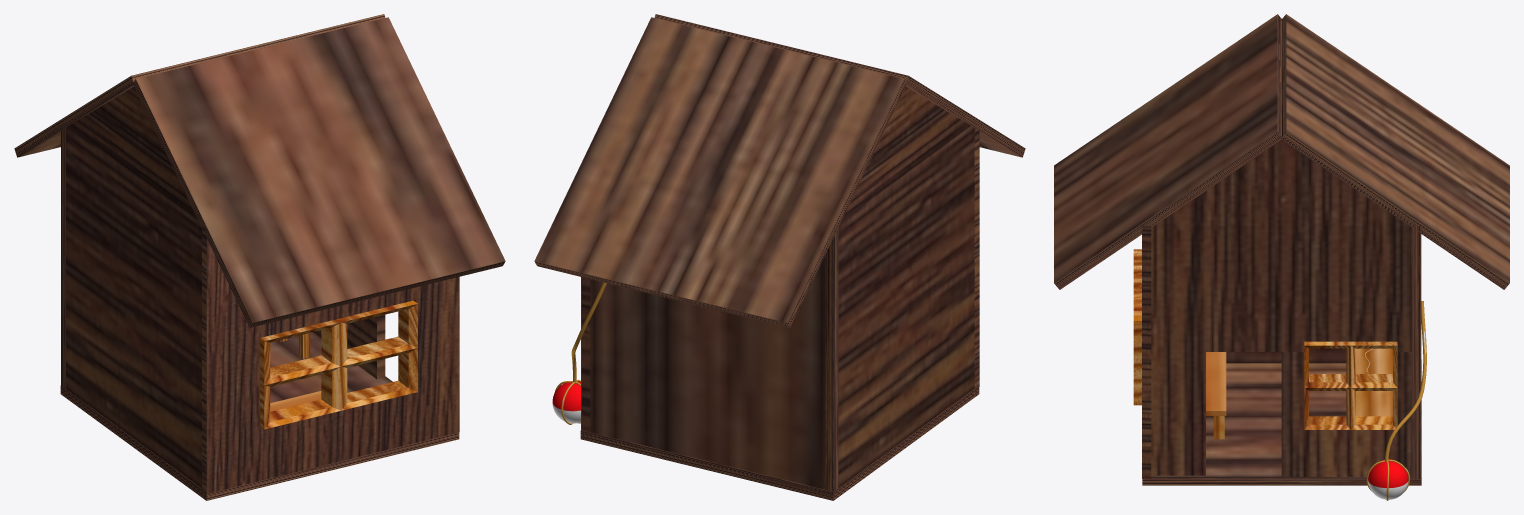
Rendered from home.obj.
3 renders of one model, left to right at view 1: azimuth 30°, elevation 25°; view 2: azimuth 150°, elevation 25°; view 3: azimuth 270°, elevation 25°, orthographic. The views are drawn at different scales.
Visible parts, largest first — view 1: yane, back, side1, window, flor, front, side2; view 2: yane, back, side2, flor, side1, front, Sphere; view 3: yane, front, flor, window1, side1, side2, desk, window, bed, back, Sphere, BézierCurve.002.
Part boxes in pixels (<box>): yane: <box>14,14,505,327</box>; back: <box>66,87,201,488</box>; side1: <box>202,226,459,493</box>; window: <box>260,300,417,429</box>; flor: <box>60,332,459,500</box>; front: <box>313,314,385,379</box>; side2: <box>61,123,65,390</box>; yane: <box>534,14,1025,327</box>; back: <box>825,87,974,491</box>; side2: <box>581,227,838,491</box>; flor: <box>580,386,979,500</box>; side1: <box>974,128,979,388</box>; front: <box>582,277,590,432</box>; Sphere: <box>552,381,580,423</box>; yane: <box>1054,14,1509,289</box>; front: <box>1151,140,1421,476</box>; flor: <box>1142,359,1421,485</box>; window1: <box>1304,341,1397,429</box>; side1: <box>1142,226,1151,478</box>; side2: <box>1411,226,1420,478</box>; desk: <box>1355,348,1392,416</box>; window: <box>1133,249,1141,405</box>; bed: <box>1206,352,1226,415</box>; back: <box>1226,19,1346,363</box>; Sphere: <box>1368,459,1408,499</box>; BézierCurve.002: <box>1384,301,1426,461</box>.
Bounding box in the file's own units: 7.05 × 8.44 × 9.79.
